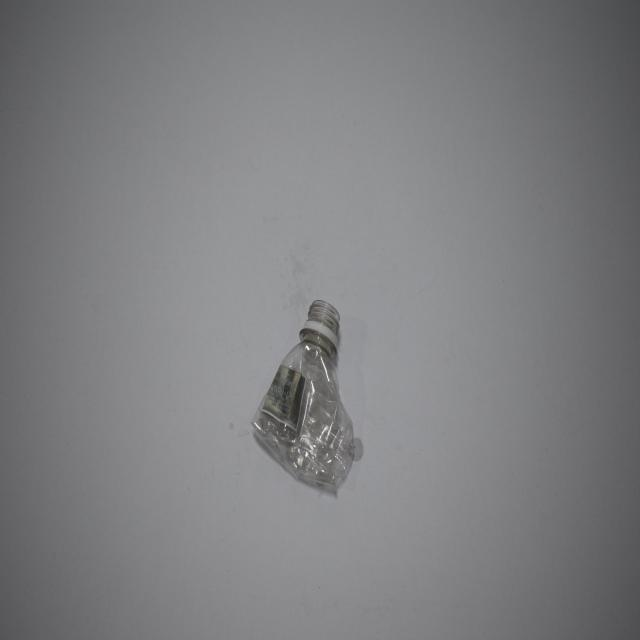bottle: (248, 296, 356, 500)
